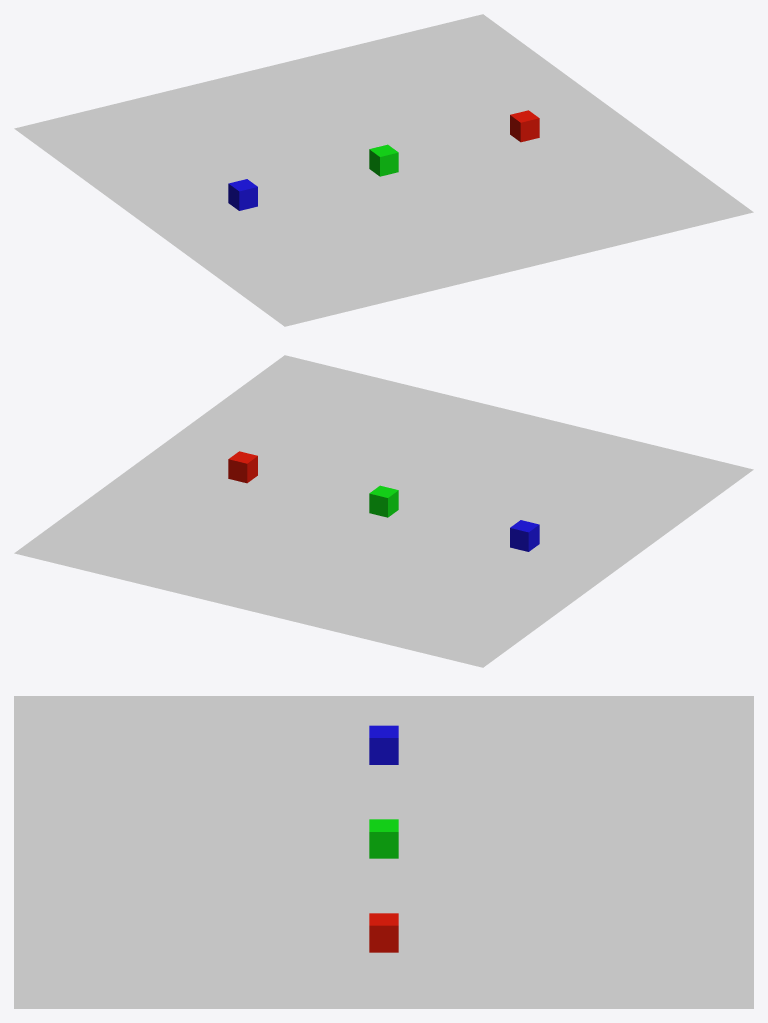
Rendered from testscene.glb.
3 renders of one model, top to bottom at view 1: azimuth 30°, elevation 25°; view 2: azimuth 150°, elevation 25°; view 3: azimuth 270°, elevation 25°, orthographic. The views are drawn at different scales.
Visible parts, largest first — view 1: Plane, box1, box2, box3; view 2: Plane, box1, box2, box3; view 3: Plane, box2, box1, box3.
Boxes of the visible parts, bbox=[...] form: Plane: bbox=[14, 14, 753, 326]; box1: bbox=[510, 110, 539, 142]; box2: bbox=[369, 144, 398, 176]; box3: bbox=[228, 179, 257, 210]; Plane: bbox=[14, 355, 753, 667]; box1: bbox=[228, 451, 257, 483]; box2: bbox=[369, 485, 398, 517]; box3: bbox=[510, 520, 539, 551]; Plane: bbox=[14, 696, 753, 1008]; box2: bbox=[369, 819, 398, 858]; box1: bbox=[369, 913, 398, 952]; box3: bbox=[369, 725, 398, 764].
Size of the model in its own units: 50 by 2 by 50.
